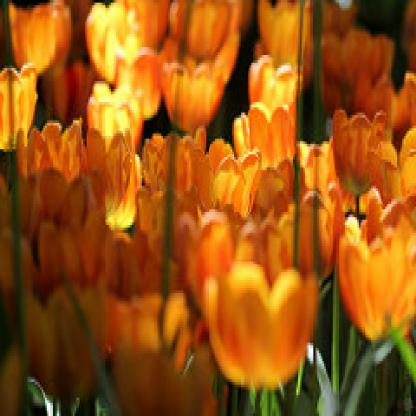TULIP: (5, 14, 409, 396)
